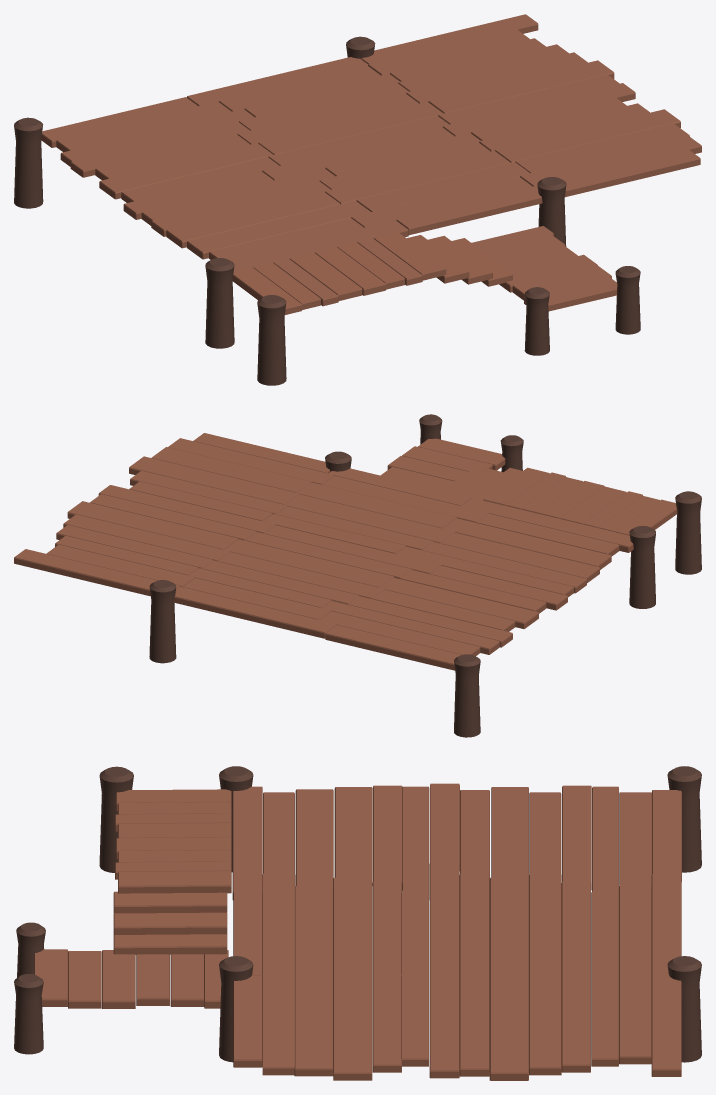
File: PROP_Ponton 1.fbx
3 renders of one model, top to bottom at view 1: azimuth 30°, elevation 25°; view 2: azimuth 150°, elevation 25°; view 3: azimuth 270°, elevation 25°, orthographic. The views are drawn at different scales.
Parts seen in each view (by area): view 1: Planche_Toit_253, Planche_Toit_284, Planche_Toit_279, Planche_Toit_242, Planche_Toit_252, Planche_Toit_240, Planche_Toit_251, Planche_Toit_258, Planche_Toit_254, Planche_Toit_278, Planche_Toit_276, Planche_Toit_282 (+53 smaller); view 2: Planche_Toit_227, Planche_Toit_279, Planche_Toit_253, Planche_Toit_284, Planche_Toit_289, Planche_Toit_252, Planche_Toit_242, Planche_Toit_240, Planche_Toit_210, Planche_Toit_254, Planche_Toit_251, Planche_Toit_278 (+50 smaller); view 3: Planche_Toit_279, Planche_Toit_284, Planche_Toit_278, Planche_Toit_242, Planche_Toit_252, Planche_Toit_253, Planche_Toit_251, Planche_Toit_254, Planche_Toit_282, Planche_Toit_285, Planche_Toit_277, Planche_Toit_240 (+54 smaller).
Boxes of the visible parts, bbox=[...] form: Planche_Toit_253: bbox=[187, 200, 370, 259]; Planche_Toit_284: bbox=[428, 60, 614, 113]; Planche_Toit_279: bbox=[495, 109, 680, 162]; Planche_Toit_242: bbox=[258, 102, 443, 154]; Planche_Toit_252: bbox=[325, 150, 510, 204]; Planche_Toit_240: bbox=[99, 143, 272, 199]; Planche_Toit_251: bbox=[166, 192, 339, 248]; Planche_Toit_258: bbox=[396, 186, 542, 235]; Planche_Toit_254: bbox=[356, 162, 529, 211]; Planche_Toit_278: bbox=[515, 123, 689, 172]; Planche_Toit_276: bbox=[562, 149, 700, 197]; Planche_Toit_282: bbox=[442, 83, 635, 136]; Planche_Toit_227: bbox=[173, 587, 336, 638]; Planche_Toit_279: bbox=[129, 456, 299, 504]; Planche_Toit_253: bbox=[443, 518, 611, 569]; Planche_Toit_284: bbox=[67, 501, 237, 549]; Planche_Toit_289: bbox=[14, 549, 180, 596]; Planche_Toit_252: bbox=[286, 494, 455, 543]; Planche_Toit_242: bbox=[224, 539, 393, 587]; Planche_Toit_240: bbox=[380, 577, 538, 628]; Planche_Toit_210: bbox=[325, 625, 461, 670]; Planche_Toit_254: bbox=[297, 482, 456, 528]; Planche_Toit_251: bbox=[441, 533, 599, 582]; Planche_Toit_278: bbox=[151, 447, 311, 492]; Planche_Toit_279: bbox=[333, 974, 372, 1080]; Planche_Toit_284: bbox=[489, 975, 528, 1080]; Planche_Toit_278: bbox=[294, 976, 333, 1076]; Planche_Toit_242: bbox=[489, 877, 528, 975]; Planche_Toit_252: bbox=[333, 877, 372, 975]; Planche_Toit_253: bbox=[295, 789, 333, 886]; Planche_Toit_251: bbox=[334, 787, 372, 885]; Planche_Toit_254: bbox=[295, 886, 333, 977]; Planche_Toit_282: bbox=[429, 966, 459, 1078]; Planche_Toit_285: bbox=[529, 970, 561, 1075]; Planche_Toit_277: bbox=[262, 970, 294, 1075]; Planche_Toit_240: bbox=[491, 787, 528, 878].
Bounding box in the file's own units: 2148 × 320 × 2118.
